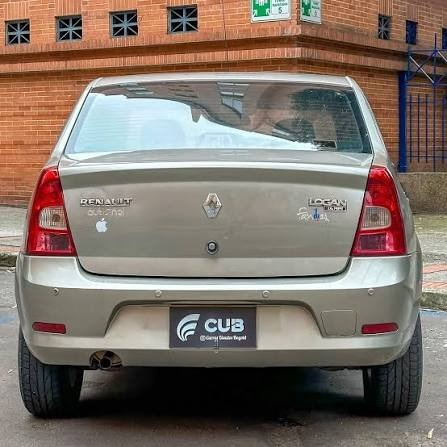car: (12, 48, 426, 429), (15, 49, 428, 424)
